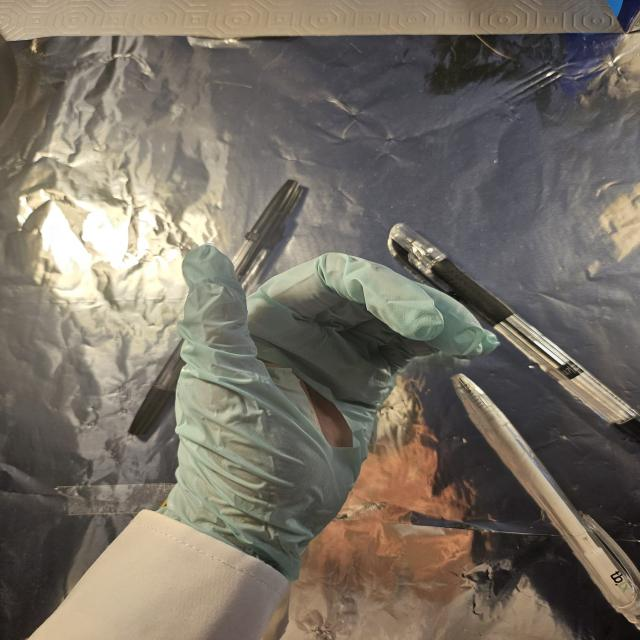gloves_damaged: (174, 236, 507, 575)
